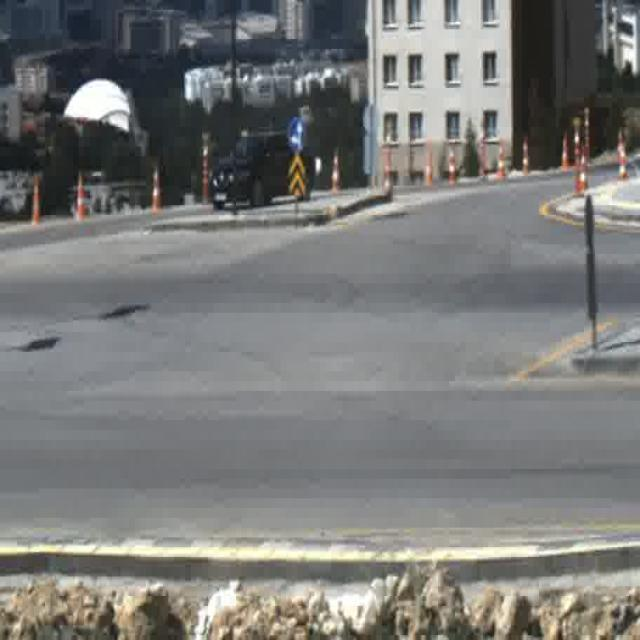Car: (211, 133, 314, 208)
